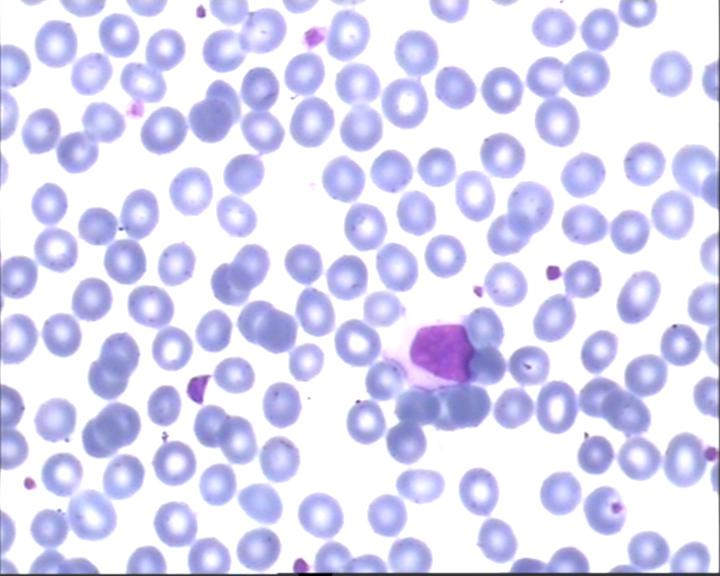mono: (375, 322, 478, 395)
